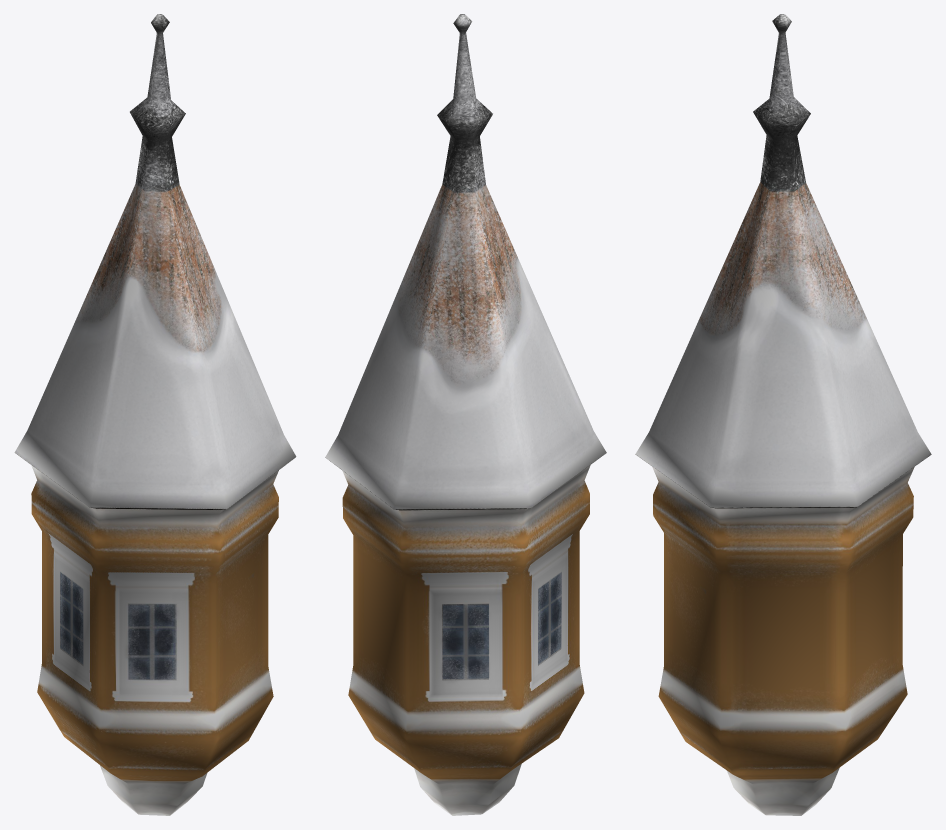
The model's file is MiniTower-2.FBX.
3 renders of one model, left to right at view 1: azimuth 30°, elevation 25°; view 2: azimuth 150°, elevation 25°; view 3: azimuth 270°, elevation 25°, orthographic.
Visible parts, largest first — view 1: Minitower-2; view 2: Minitower-2; view 3: Minitower-2.
Part boxes in pixels (bbox=[...]): Minitower-2: bbox=[14, 14, 296, 815]; Minitower-2: bbox=[325, 14, 606, 815]; Minitower-2: bbox=[635, 14, 931, 815].
Bounding box in the file's own units: 22.85 × 82.52 × 27.98.
Materials: 1 (1 with a texture image).
